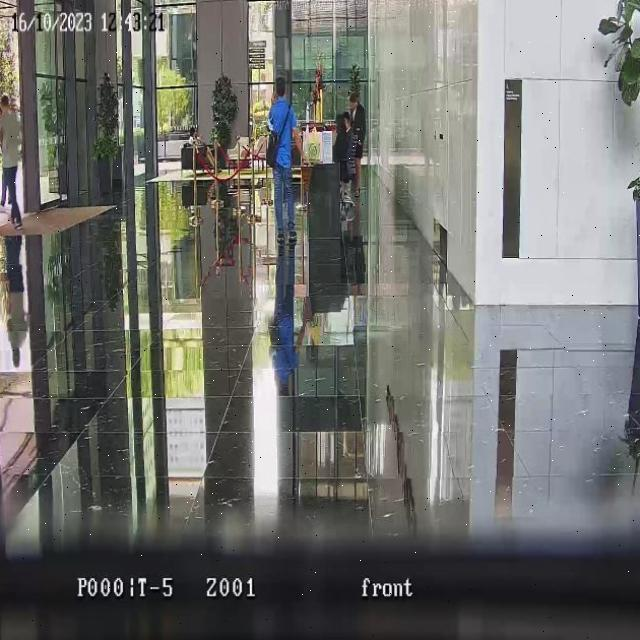person: (266, 70, 302, 253), (0, 93, 23, 227), (350, 92, 367, 198), (188, 126, 222, 176), (334, 115, 348, 171)
